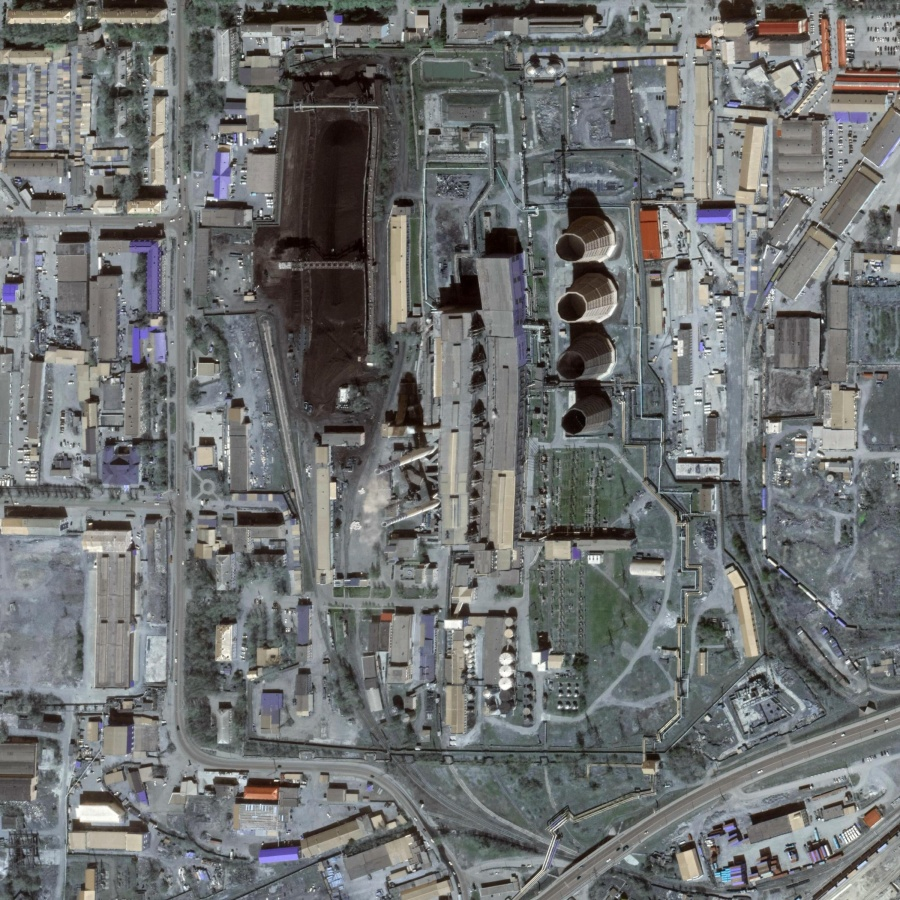PowerPlant: (240, 43, 650, 552)
